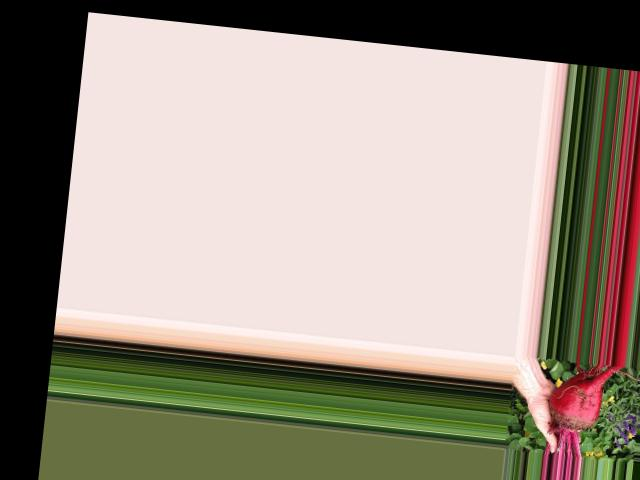beet: (544, 358, 624, 460)
